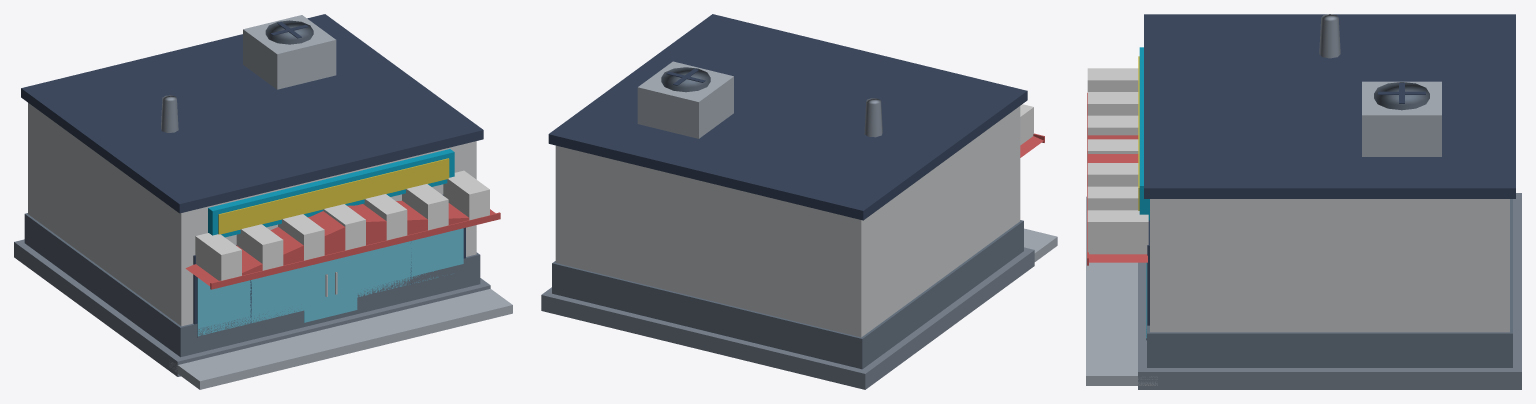
Rendered from commercial-shop.glb.
The picture shows the model from 3 angles, left to right: view 1: azimuth 30°, elevation 25°; view 2: azimuth 150°, elevation 25°; view 3: azimuth 270°, elevation 25°; orthographic projection. The views are drawn at different scales.
Parts seen in each view (by area): view 1: Root; view 2: Root; view 3: Root.
Part boxes in pixels (x1,y1,x2,y2): Root: (14,14,512,389); Root: (541,14,1057,389); Root: (1086,14,1521,389).
Bounding box in the file's own units: 10.6 × 6.8 × 10.9.
